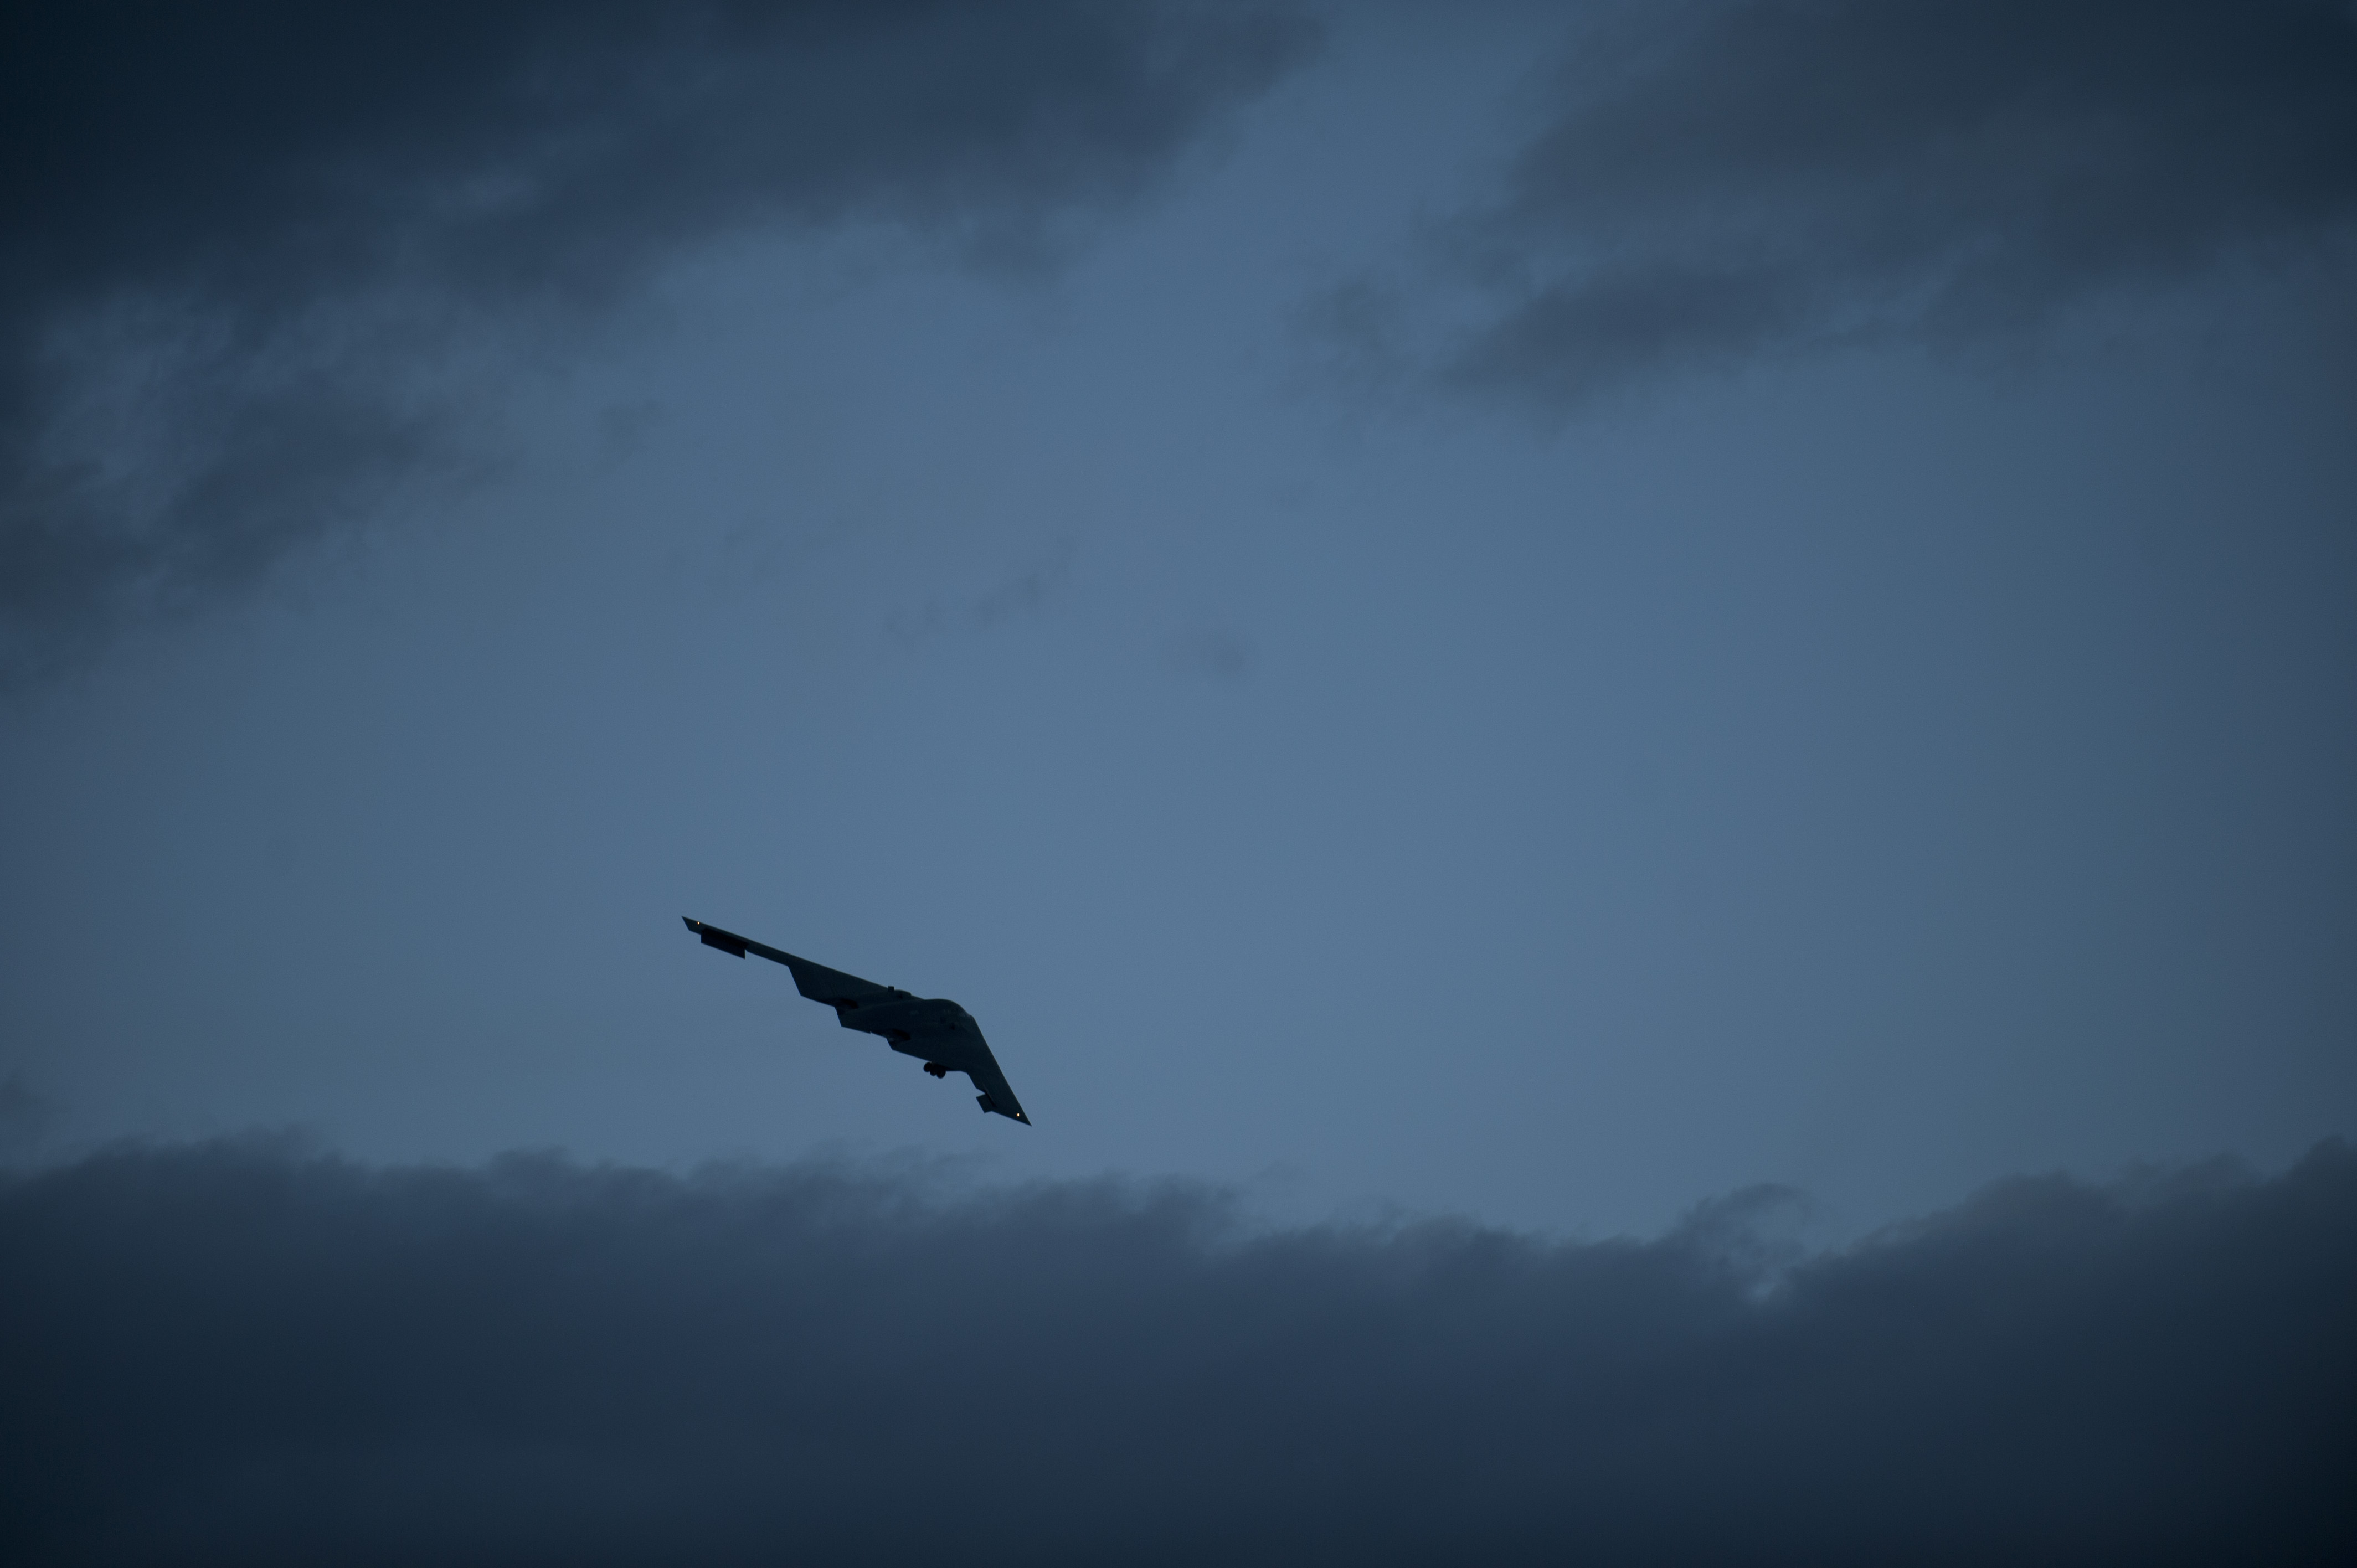B2: (682, 915, 1031, 1127)
